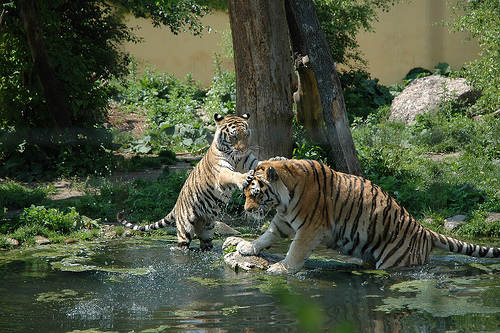Tigre: (248, 158, 454, 271), (174, 113, 248, 245)
